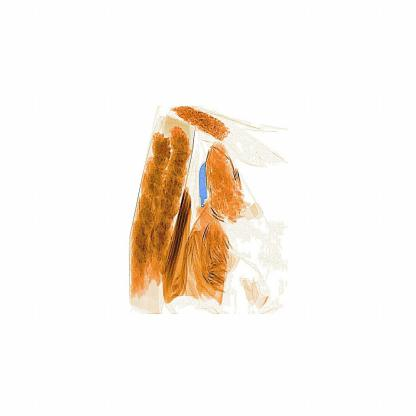wrench: (194, 158, 211, 235)
